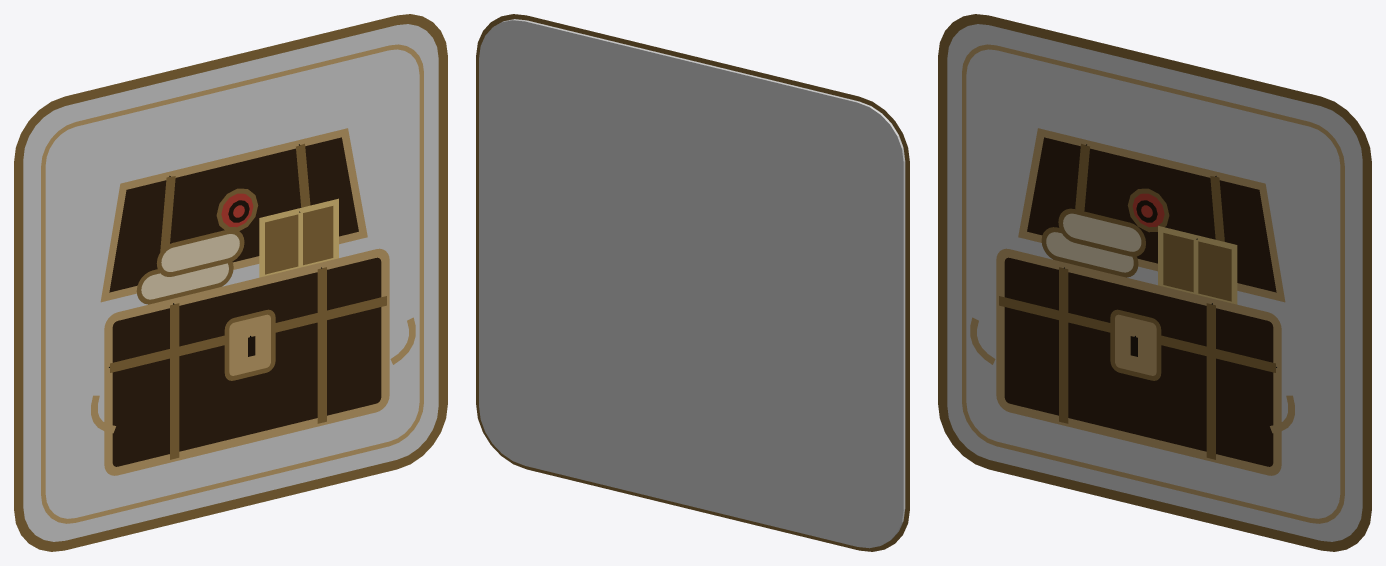
File: obj-sunduk-arkhiva.glb
3 views of the same model, side by side, from view 1: azimuth 30°, elevation 25°; view 2: azimuth 150°, elevation 25°; view 3: azimuth 330°, elevation 25° (orthographic).
Visible parts, largest first — view 1: obj-sunduk-arkhiva; view 2: obj-sunduk-arkhiva; view 3: obj-sunduk-arkhiva.
Boxes of the visible parts, x1,y1,x2,y2 form: obj-sunduk-arkhiva: (14,14,447,551); obj-sunduk-arkhiva: (476,14,909,551); obj-sunduk-arkhiva: (938,14,1371,551).
Size of the model in its own units: 0.3917 by 0.3917 by 0.0376.
